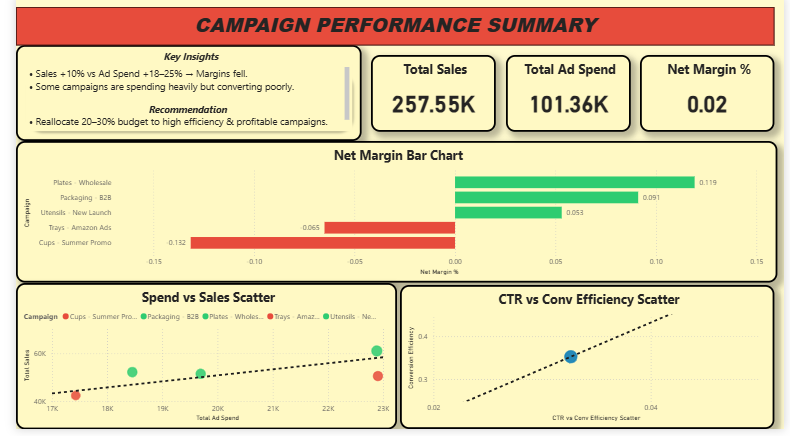

The page's visual inventory and layout, read from the dashboard file:
{"tool":"powerbi","page":{"name":"Page 1","canvas":[1280,720],"ordinal":0},"visuals":[{"type":"shape","title":"Key Insights","box":[0,80,576,160],"z":0},{"type":"textbox","box":[16,112,544,112],"z":1000},{"type":"clusteredBarChart","title":"Net Margin Bar Chart","fields":{"Category":["Data for the Assessment.Campaign"],"Y":["Data for the Assessment.Net Margin %"]},"box":[0,240.7,1268.7,236.3],"z":2000},{"type":"scatterChart","title":"Spend vs Sales Scatter","fields":{"X":["Data for the Assessment.Total Ad Spend"],"Y":["Data for the Assessment.Total Sales"],"Series":["Data for the Assessment.Campaign"],"Size":["Data for the Assessment.Total Sales"]},"box":[0,477,635.1,243.7],"z":3000},{"type":"scatterChart","title":"CTR vs Conv Efficiency Scatter","fields":{"X":["Data for the Assessment.CTR %"],"Y":["Data for the Assessment.Conversion Efficiency"],"Size":["Sum(Data for the Assessment.Impressions)"]},"box":[640,480,624,240],"z":4000},{"type":"textbox","box":[0,16,1264,64],"z":5000},{"type":"card","title":"Total Sales","fields":{"Values":["Data for the Assessment.Total Sales"]},"box":[592,96,208,128],"z":6000},{"type":"card","title":"Total Ad Spend","fields":{"Values":["Data for the Assessment.Total Ad Spend"]},"box":[816,96,208,128],"z":7000},{"type":"card","title":"Net Margin %","fields":{"Values":["Data for the Assessment.Net Margin %"]},"box":[1040,96,224,128],"z":8000}]}

Visuals, with their boxes in screenshot pixels (x1, y1, x2, y2), scaled from the page's 1280x720 canvas onto the 790x436 screenshot:
"Key Insights" shape: bbox=[0, 48, 356, 145]
textbox: bbox=[10, 68, 346, 136]
"Net Margin Bar Chart" clusteredBarChart: bbox=[0, 146, 783, 289]
"Spend vs Sales Scatter" scatterChart: bbox=[0, 289, 392, 435]
"CTR vs Conv Efficiency Scatter" scatterChart: bbox=[395, 291, 780, 435]
textbox: bbox=[0, 10, 780, 48]
"Total Sales" card: bbox=[365, 58, 494, 136]
"Total Ad Spend" card: bbox=[504, 58, 632, 136]
"Net Margin %" card: bbox=[642, 58, 780, 136]
